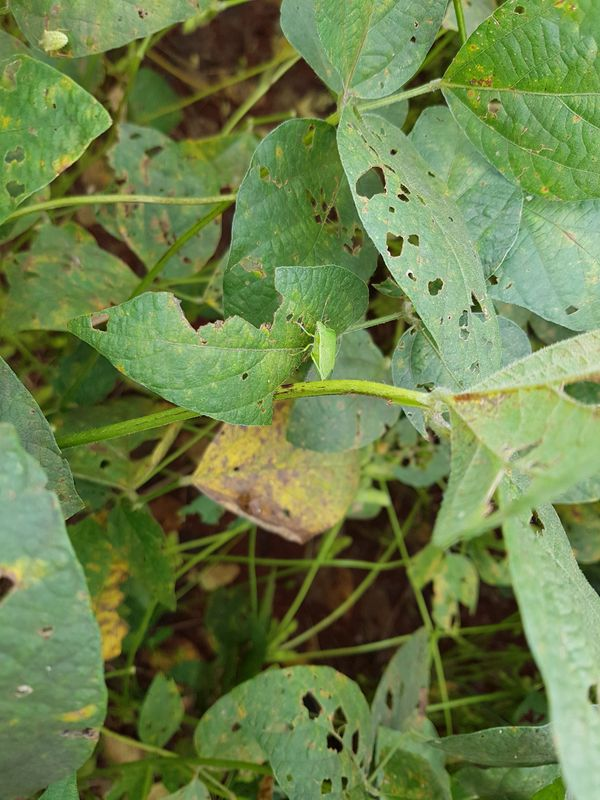Euschistus_heros_adulto: (240, 489, 267, 521)
Euschistus_heros_ninfa: (31, 22, 77, 59)
Nezara_viridula_adulto: (280, 295, 349, 394)
